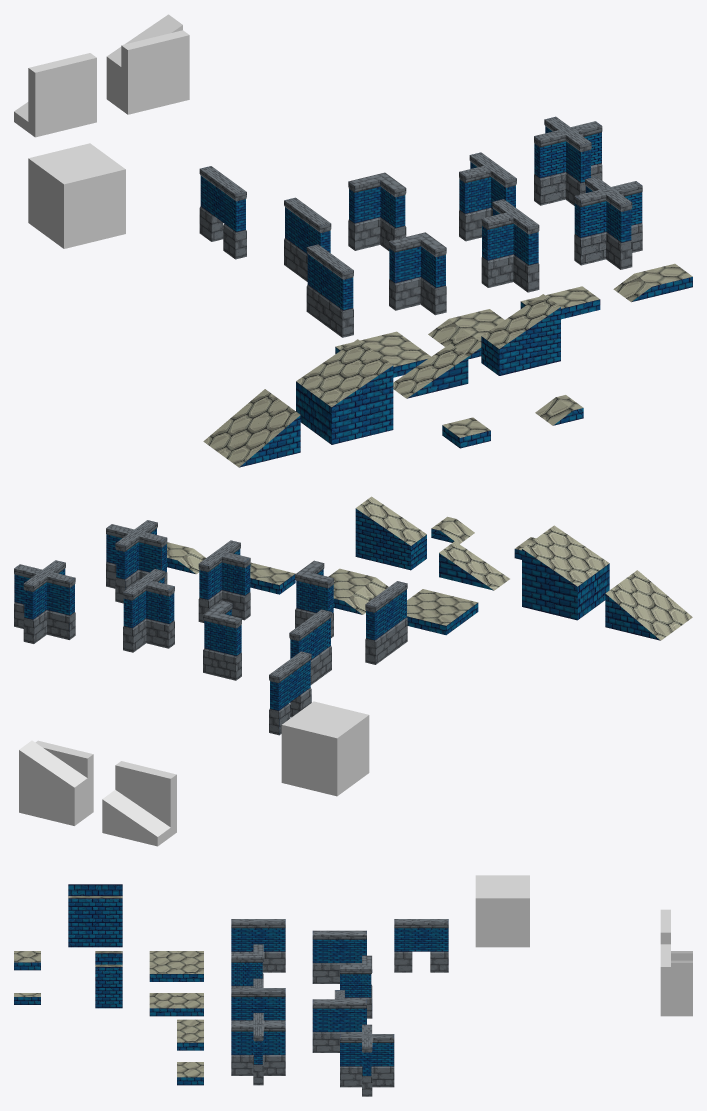
File: gridtiles3.glb
3 views of the same model, one above another, from view 1: azimuth 30°, elevation 25°; view 2: azimuth 150°, elevation 25°; view 3: azimuth 270°, elevation 25° (orthographic). The views are drawn at different scales.
Parts seen in each view (by area): view 1: Cube, ramp_2_upper, ramp_wall_up_1, x_wall_3, ramp_wall_down_1, x_wall_3_edge, ramp_2_lower, ramp_2_upper.001, t_wall_3, corner_3, corner_3_edge, wall_3 (+10 smaller); view 2: Cube, ramp_2_upper, ramp_wall_up_1, ramp_wall_down_1, x_wall_3_edge, ramp_2_lower, ramp_2_upper.001, t_wall_3_edge, x_wall_3, t_wall_3, wall_3, corner_3_edge (+9 smaller); view 3: Cube, x_wall_3, x_wall_3_edge, ramp_2_upper, wall_3_vent, t_wall_3_edge, wall_3_edge, wall_3, ramp_wall_up_1, t_wall_3, floor_3, floor_4 (+9 smaller).
Part boxes in pixels (x1,y1,x2,y2): Cube: [28, 143, 125, 248]; ramp_2_upper: [296, 339, 393, 444]; ramp_wall_up_1: [106, 14, 189, 114]; x_wall_3: [574, 176, 642, 269]; ramp_wall_down_1: [14, 53, 96, 137]; x_wall_3_edge: [534, 116, 602, 205]; ramp_2_lower: [203, 389, 300, 467]; ramp_2_upper.001: [481, 294, 560, 375]; t_wall_3: [481, 199, 539, 292]; corner_3: [389, 232, 446, 315]; corner_3_edge: [348, 172, 406, 250]; wall_3: [306, 244, 353, 337]; Cube: [281, 701, 369, 796]; ramp_2_upper: [522, 525, 609, 620]; ramp_wall_up_1: [19, 740, 93, 825]; ramp_wall_down_1: [102, 761, 176, 846]; x_wall_3_edge: [14, 560, 75, 643]; ramp_2_lower: [605, 570, 692, 640]; ramp_2_upper.001: [355, 496, 426, 570]; t_wall_3_edge: [123, 569, 174, 652]; x_wall_3: [106, 520, 167, 603]; t_wall_3: [198, 540, 250, 622]; wall_3: [365, 581, 407, 664]; corner_3_edge: [203, 601, 241, 680]; Cube: [475, 875, 529, 947]; x_wall_3: [231, 1013, 285, 1085]; x_wall_3_edge: [340, 1024, 394, 1096]; ramp_2_upper: [68, 896, 122, 947]; wall_3_vent: [394, 919, 448, 972]; t_wall_3_edge: [312, 990, 366, 1052]; wall_3_edge: [312, 930, 366, 983]; wall_3: [231, 919, 285, 972]; ramp_wall_up_1: [660, 944, 692, 1016]; t_wall_3: [231, 978, 285, 1022]; floor_3: [149, 951, 203, 981]; floor_4: [149, 993, 203, 1016].
Bounding box in the file's own units: 18 × 2.16 × 25.
Materials: 19 (19 with a texture image).
